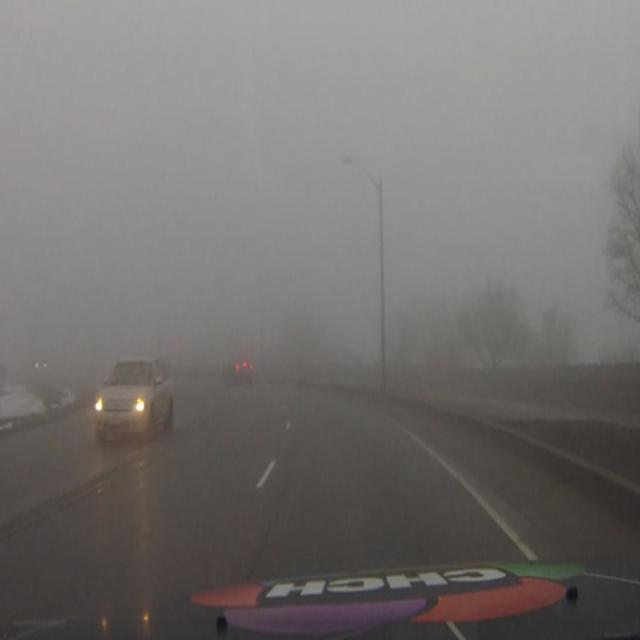car: (92, 358, 176, 444), (228, 354, 253, 386)
